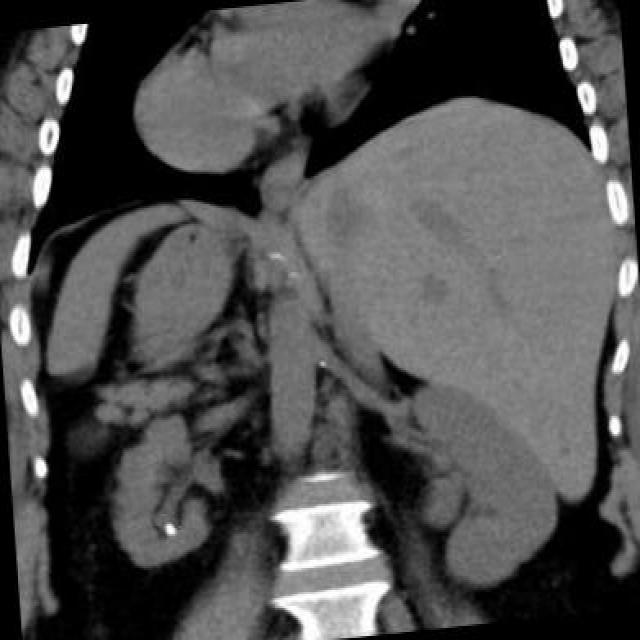Tas_Var: (156, 514, 181, 542)
